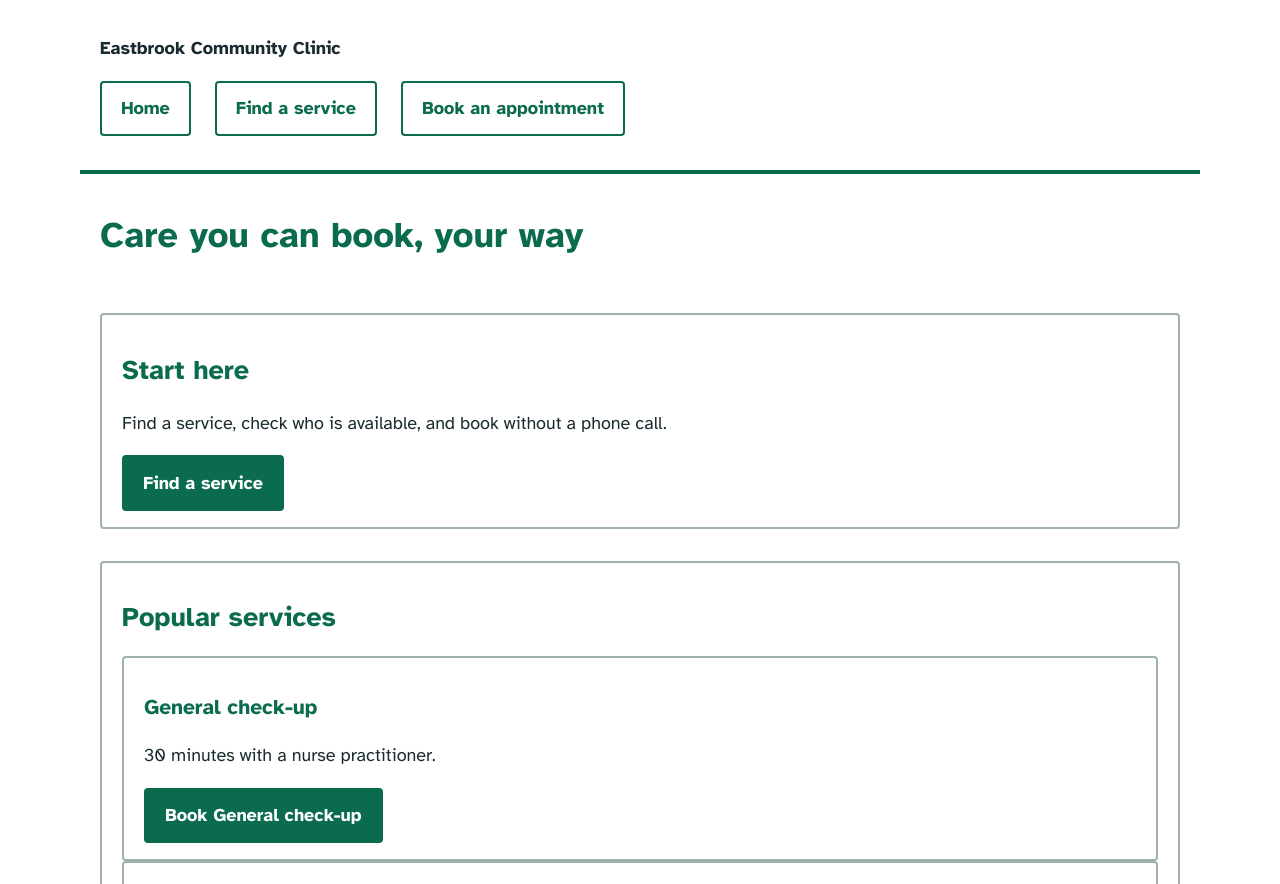
Test case: landing page and demo wording › confirmation says nothing was sent
Click the button "Find a service" below "Eastbrook Community Clinic": click(296, 108) [215,81,377,136]
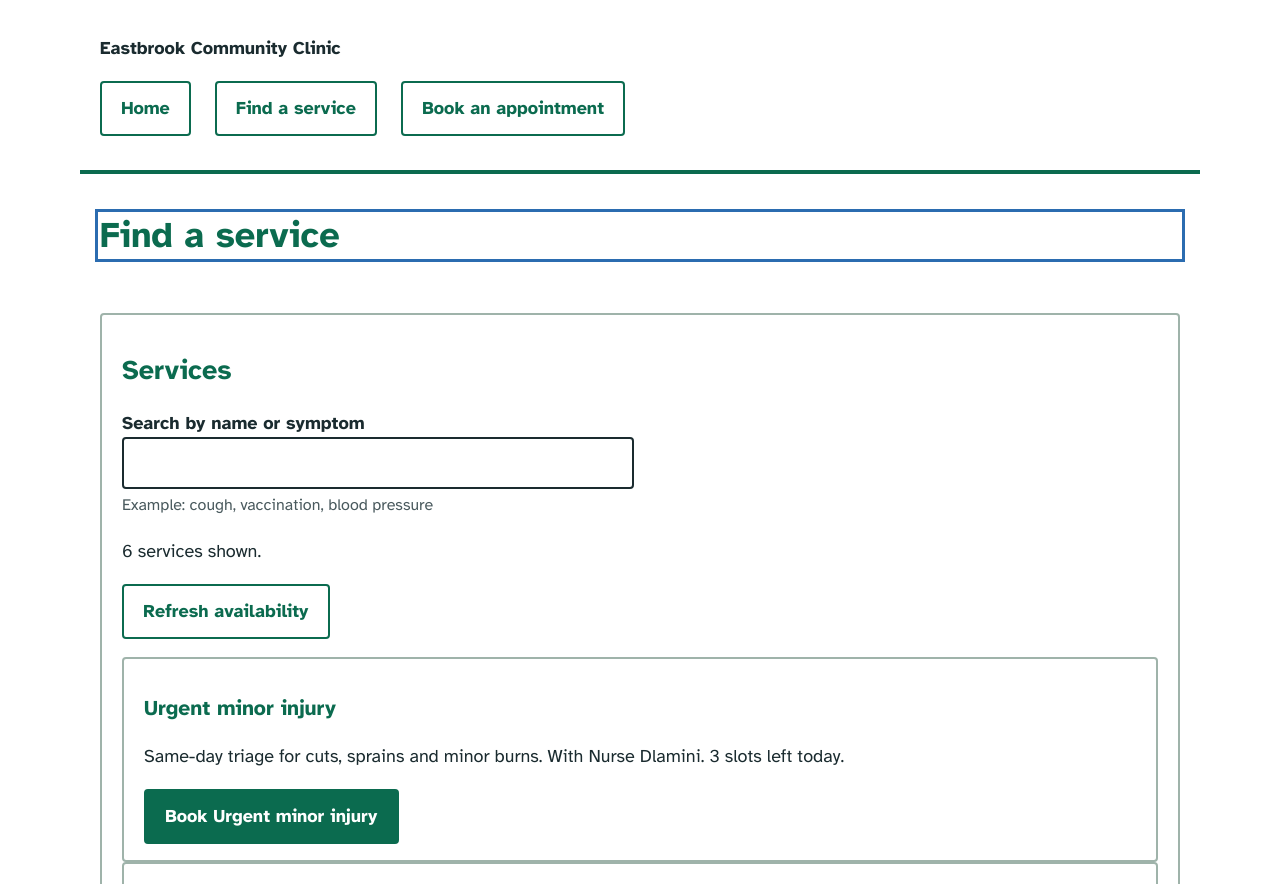
Click the button "Book an appointment": click(513, 108) [401,81,625,136]
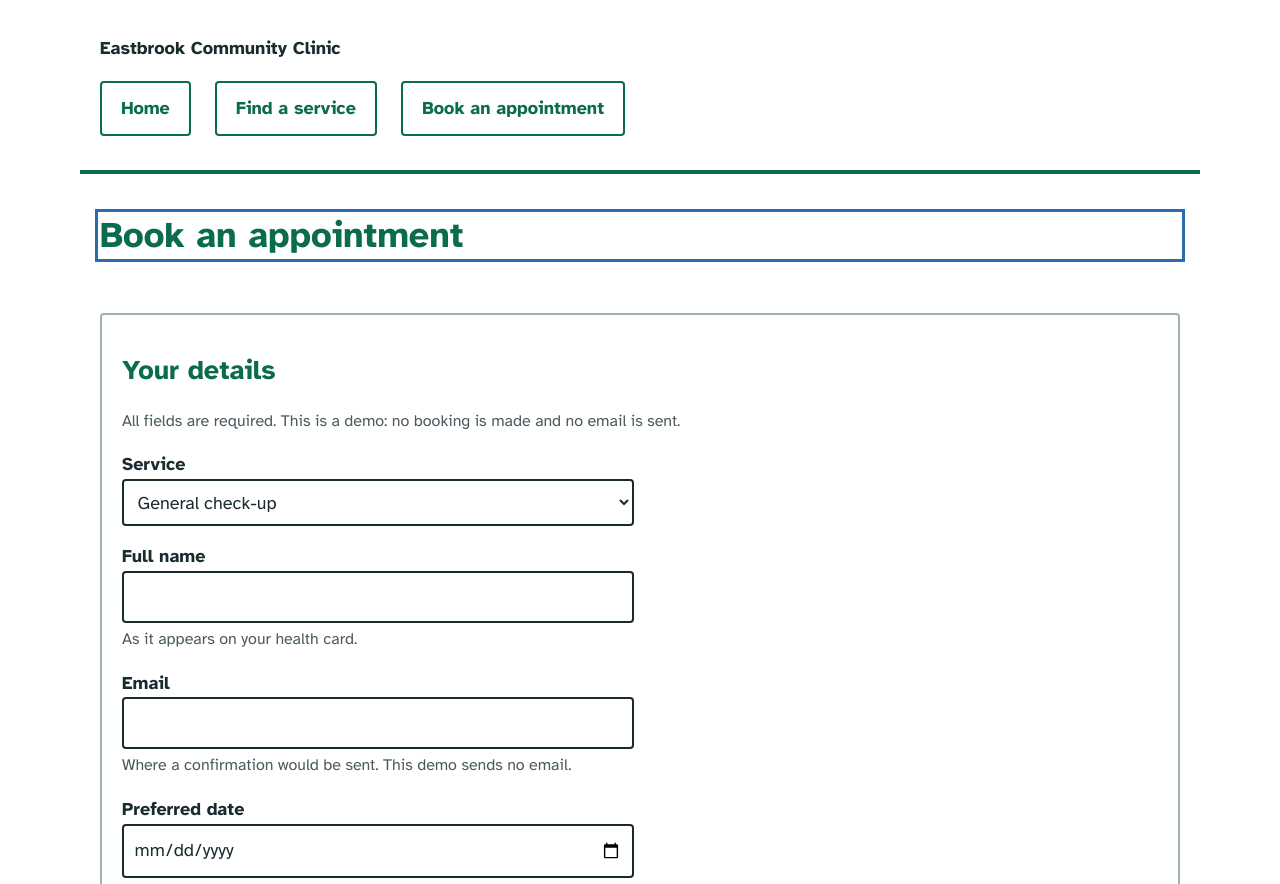
In the field labelled "Full name": (378, 597) [122,571,634,623], type "Amara Nkosi"
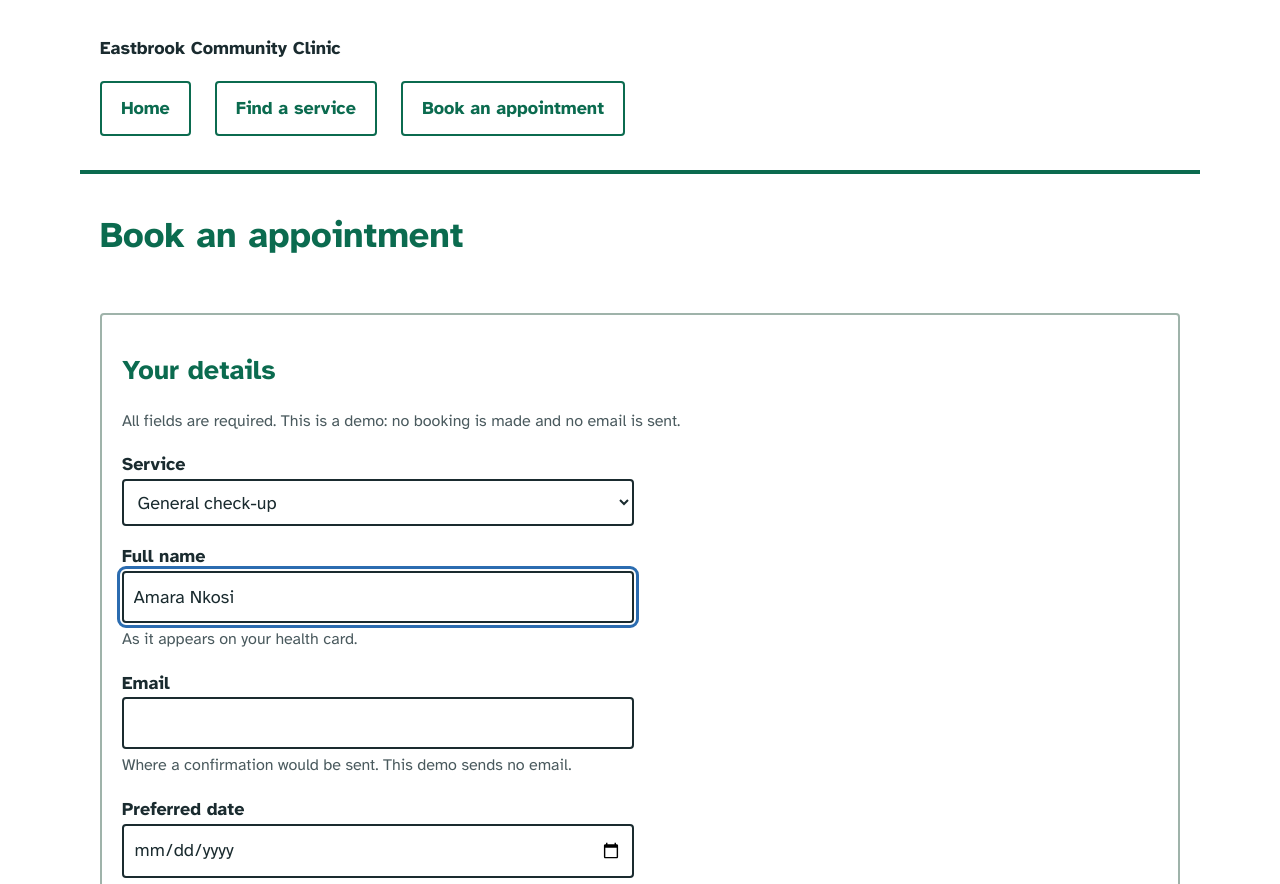
In the field labelled "Email": (378, 723) [122,697,634,749], type "a@b.co"
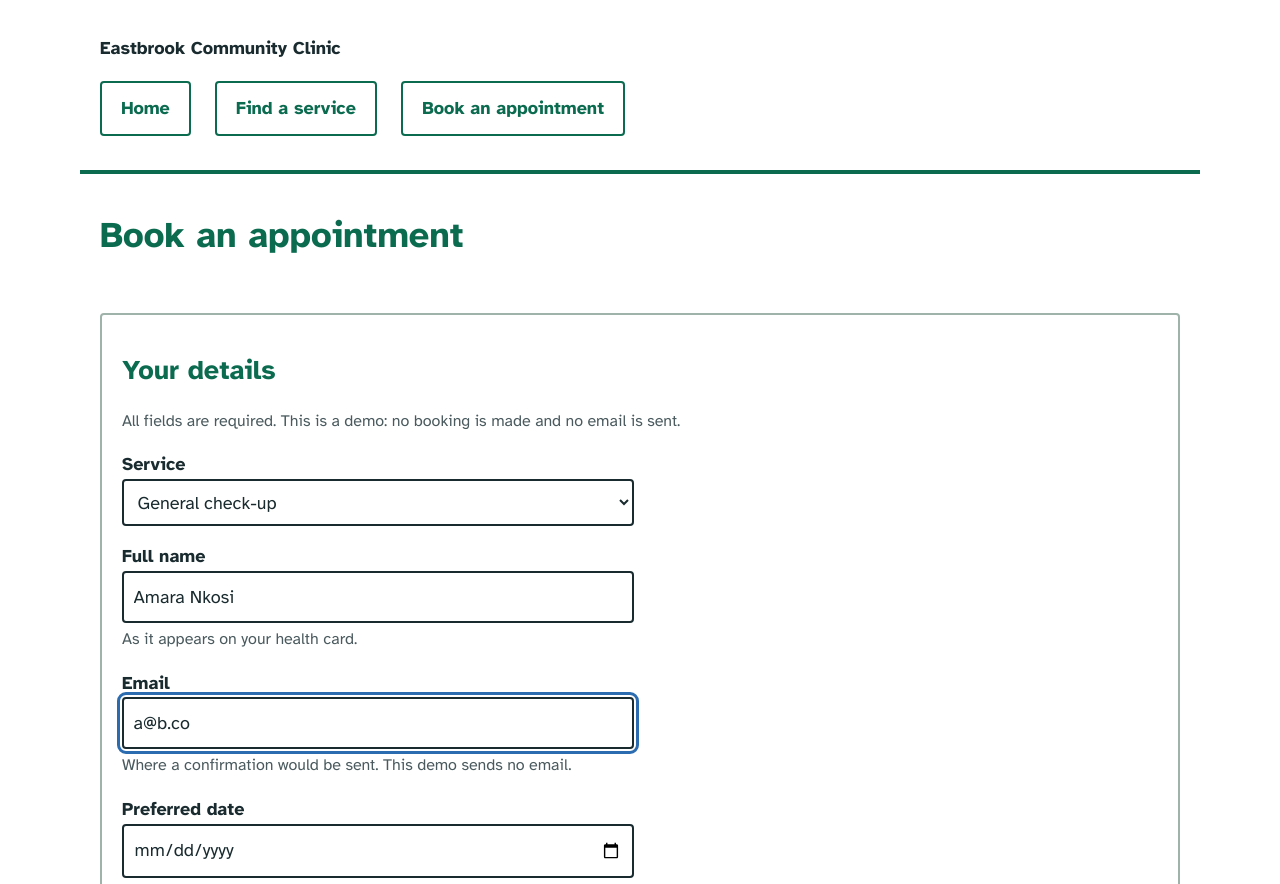
In the date field labelled "Preferred date": (378, 851) [122,824,634,878], type "2030-01-08"
(page scrolled)
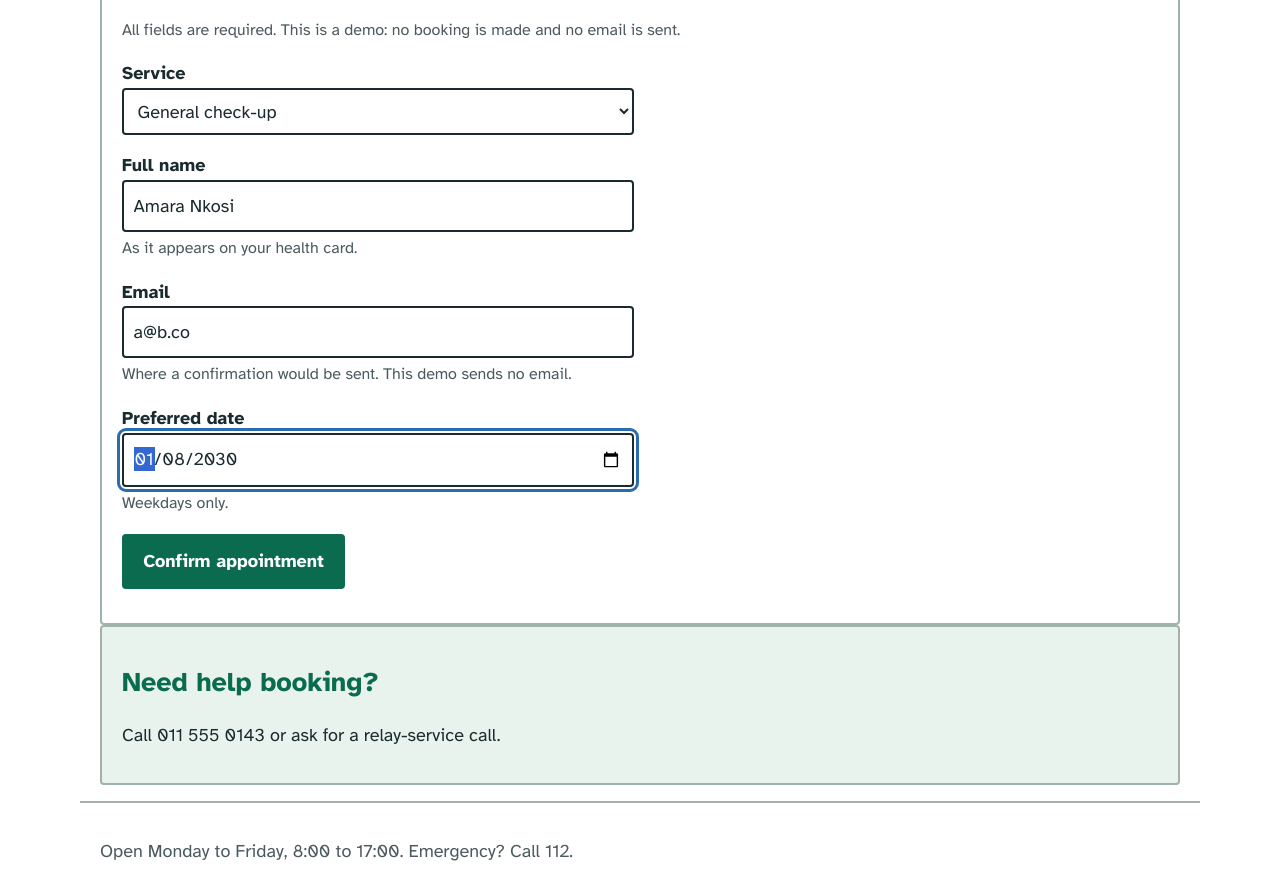
Click the button "Confirm appointment": click(234, 562) [122,534,345,590]
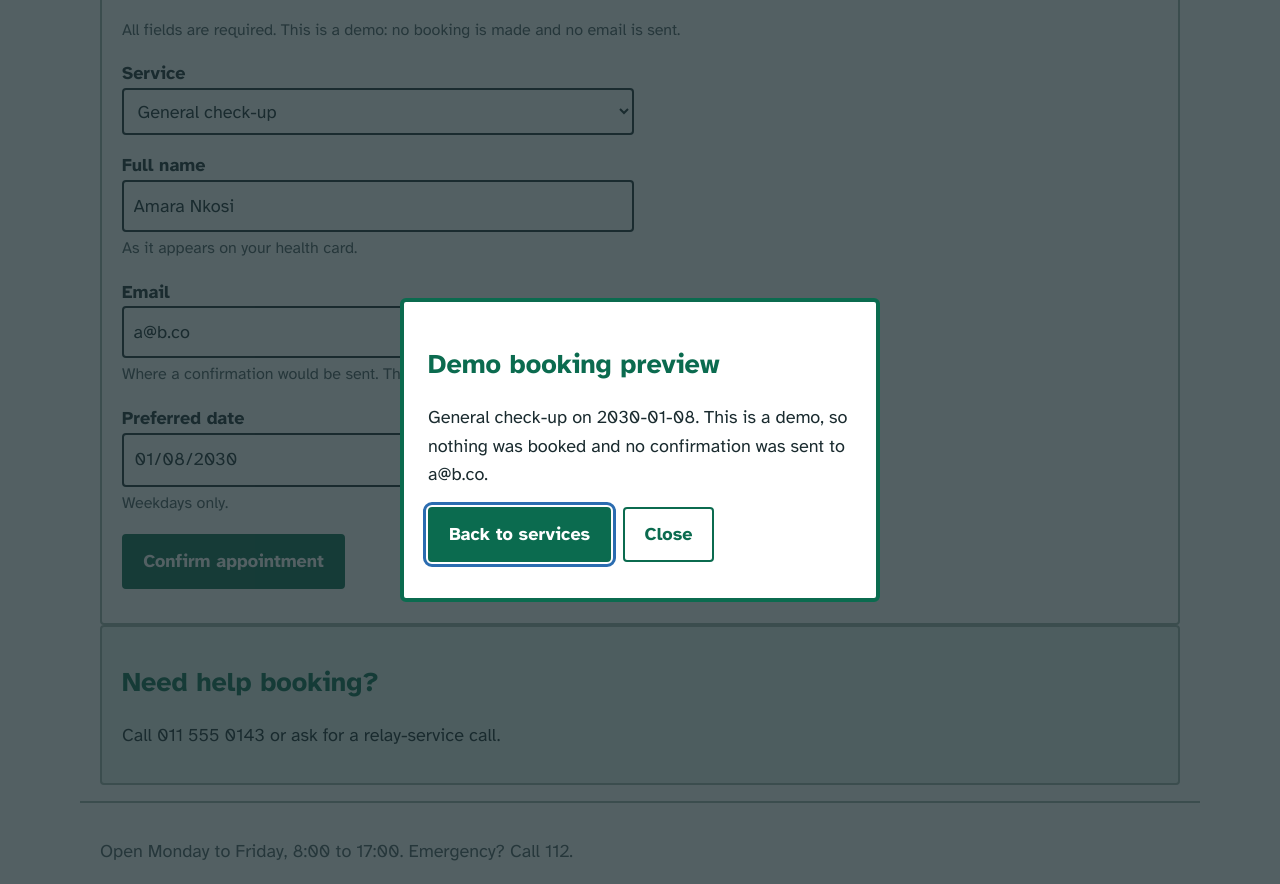
Expected: the dialog "Demo booking preview" does not show "on its way", [400,298,880,602]
Expected: the dialog "Demo booking preview" shows "nothing was booked and no confirmation was sent", [428,406,847,457]
